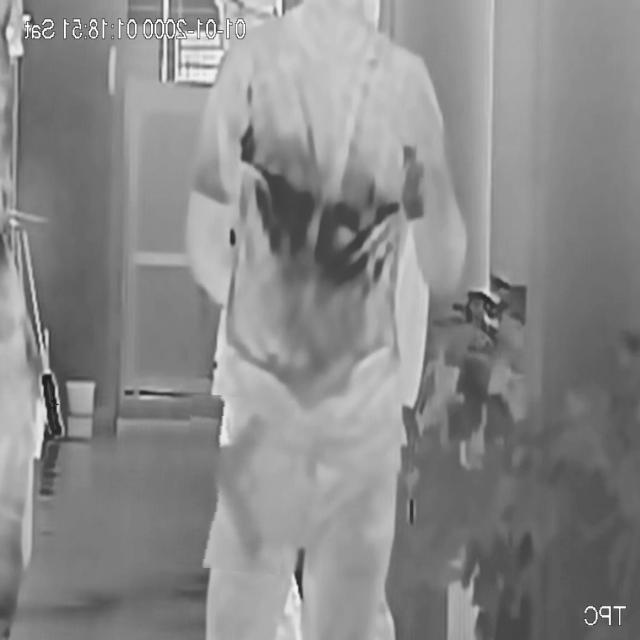Weapon: (179, 394, 293, 572)
